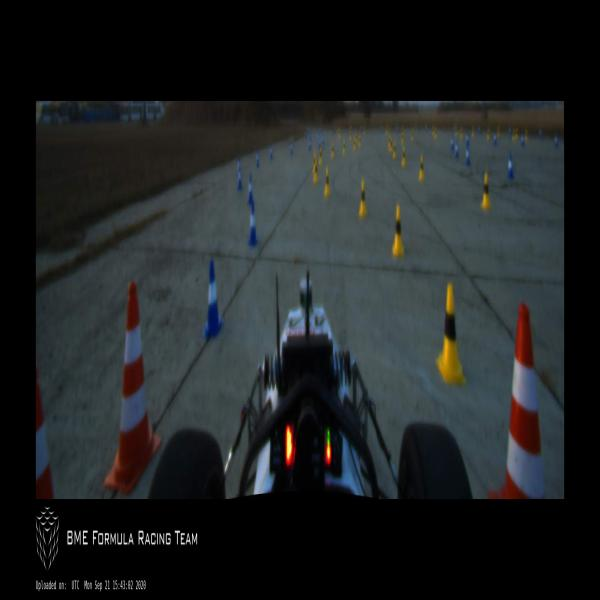blue_cone: (202, 260, 223, 340), (247, 204, 258, 245), (507, 152, 515, 180), (248, 176, 254, 205), (237, 168, 242, 190), (255, 150, 260, 167), (237, 156, 241, 176), (466, 146, 470, 166), (455, 140, 459, 160), (450, 135, 454, 151), (270, 144, 273, 160), (309, 137, 312, 152), (555, 133, 558, 148), (290, 141, 293, 155), (521, 132, 524, 146), (494, 131, 497, 144), (466, 134, 469, 144), (539, 128, 542, 138), (322, 136, 325, 144), (478, 125, 481, 132), (509, 126, 511, 135), (425, 124, 427, 132)
large_orange_cone: (103, 281, 163, 492), (487, 300, 550, 498)
yellow_cone: (436, 282, 464, 384), (391, 205, 404, 257), (358, 180, 367, 217), (482, 172, 491, 209), (324, 167, 330, 198), (401, 146, 406, 167), (420, 155, 424, 181), (314, 160, 318, 183), (392, 141, 396, 160), (313, 150, 316, 174), (319, 147, 322, 166), (515, 126, 519, 139), (512, 128, 516, 140), (343, 140, 346, 154), (472, 124, 475, 138), (353, 137, 356, 150), (411, 128, 414, 141), (487, 128, 490, 140), (497, 126, 500, 138), (525, 128, 528, 140), (401, 132, 404, 143), (435, 128, 438, 139), (460, 128, 463, 139), (332, 142, 334, 158), (390, 137, 392, 153), (338, 129, 341, 139), (349, 131, 352, 140), (388, 136, 390, 147), (359, 136, 361, 146)
